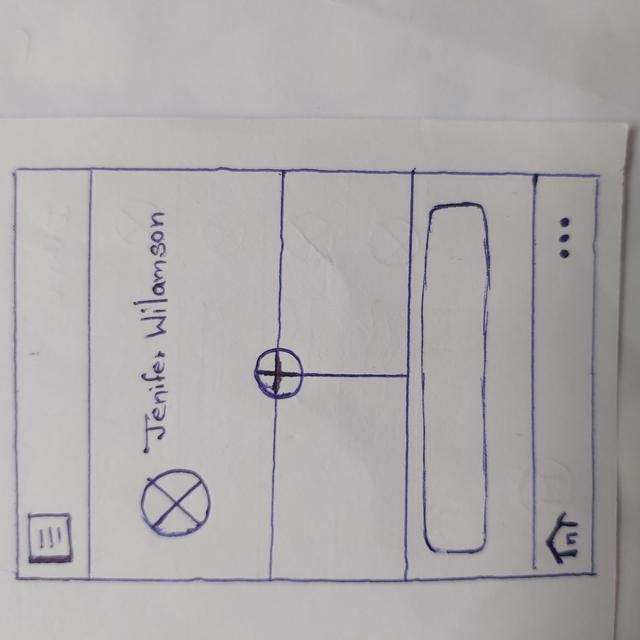AppBar: (10, 166, 93, 580)
BottomNavBar: (532, 173, 596, 580)
BottomNavItems: (534, 506, 593, 577), (533, 211, 598, 272)
DrawerToggleButton: (26, 513, 73, 562)
EditText: (418, 204, 489, 555)
Icon: (546, 515, 580, 565), (557, 215, 572, 260)
Image: (140, 472, 212, 535)
MainLayout: (11, 166, 596, 578)
TextView: (147, 211, 167, 446)
